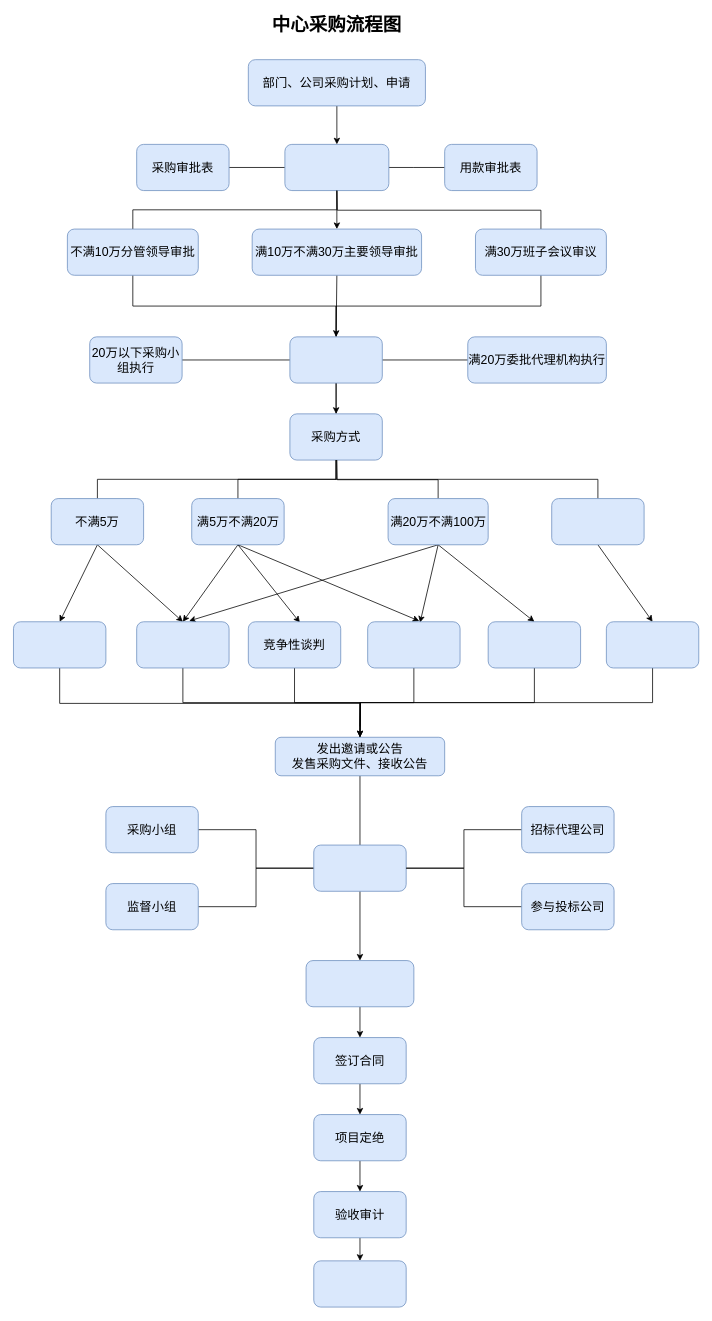
The diagram is 712 pixels wide and 1321 high, and some of its shapes have lost their labels. The shapes that lost their labels are listed below. From the top down, each one's centre as x and y in pixels, then its label:
At point 336,167: "报送审批、审议".
At point 335,359: "组织执行采购".
At point 597,521: "满100万".
At point 59,644: "直接采购".
At point 182,644: "询价比价".
At point 413,644: "竞争性磋商".
At point 534,644: "单一来源采购".
At point 652,644: "公开招标".
At point 359,867: "现场投标".
At point 359,983: "结果公布或公示".
At point 359,1283: "结算".
